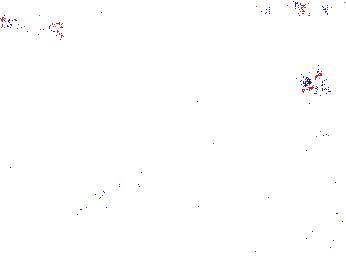glassfish: (66, 162, 163, 228)
red belly glassfish: (314, 124, 346, 144), (305, 72, 327, 97)
redtail glassfish: (1, 15, 65, 40), (240, 1, 304, 17)
